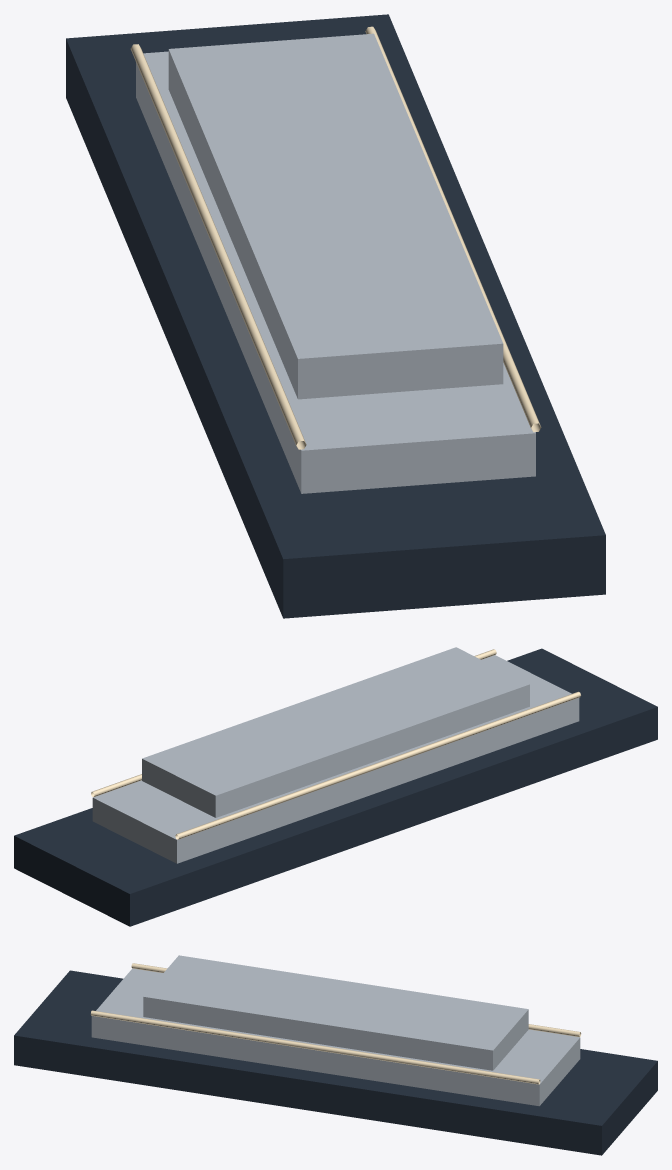
The picture shows the model from 3 angles, top to bottom: view 1: azimuth 30°, elevation 25°; view 2: azimuth 150°, elevation 25°; view 3: azimuth 270°, elevation 25°; orthographic projection. The views are drawn at different scales.
Parts seen in each view (by area): view 1: -3_-2_珍珠白 · 混凝土, -3_-2_深灰金属, -3_-2_路灯 · 暖白; view 2: -3_-2_珍珠白 · 混凝土, -3_-2_深灰金属, -3_-2_路灯 · 暖白; view 3: -3_-2_珍珠白 · 混凝土, -3_-2_深灰金属, -3_-2_路灯 · 暖白.
Boxes of the visible parts, x1,y1,x2,y2 form: -3_-2_珍珠白 · 混凝土: (136,33,535,493); -3_-2_深灰金属: (66,14,605,618); -3_-2_路灯 · 暖白: (130,26,541,449); -3_-2_珍珠白 · 混凝土: (92,647,579,863); -3_-2_深灰金属: (14,648,657,926); -3_-2_路灯 · 暖白: (91,649,580,839); -3_-2_珍珠白 · 混凝土: (91,955,580,1106); -3_-2_深灰金属: (14,970,657,1155); -3_-2_路灯 · 暖白: (90,963,581,1084).
Bounding box in the file's own units: 24.7 × 5.55 × 43.23.
